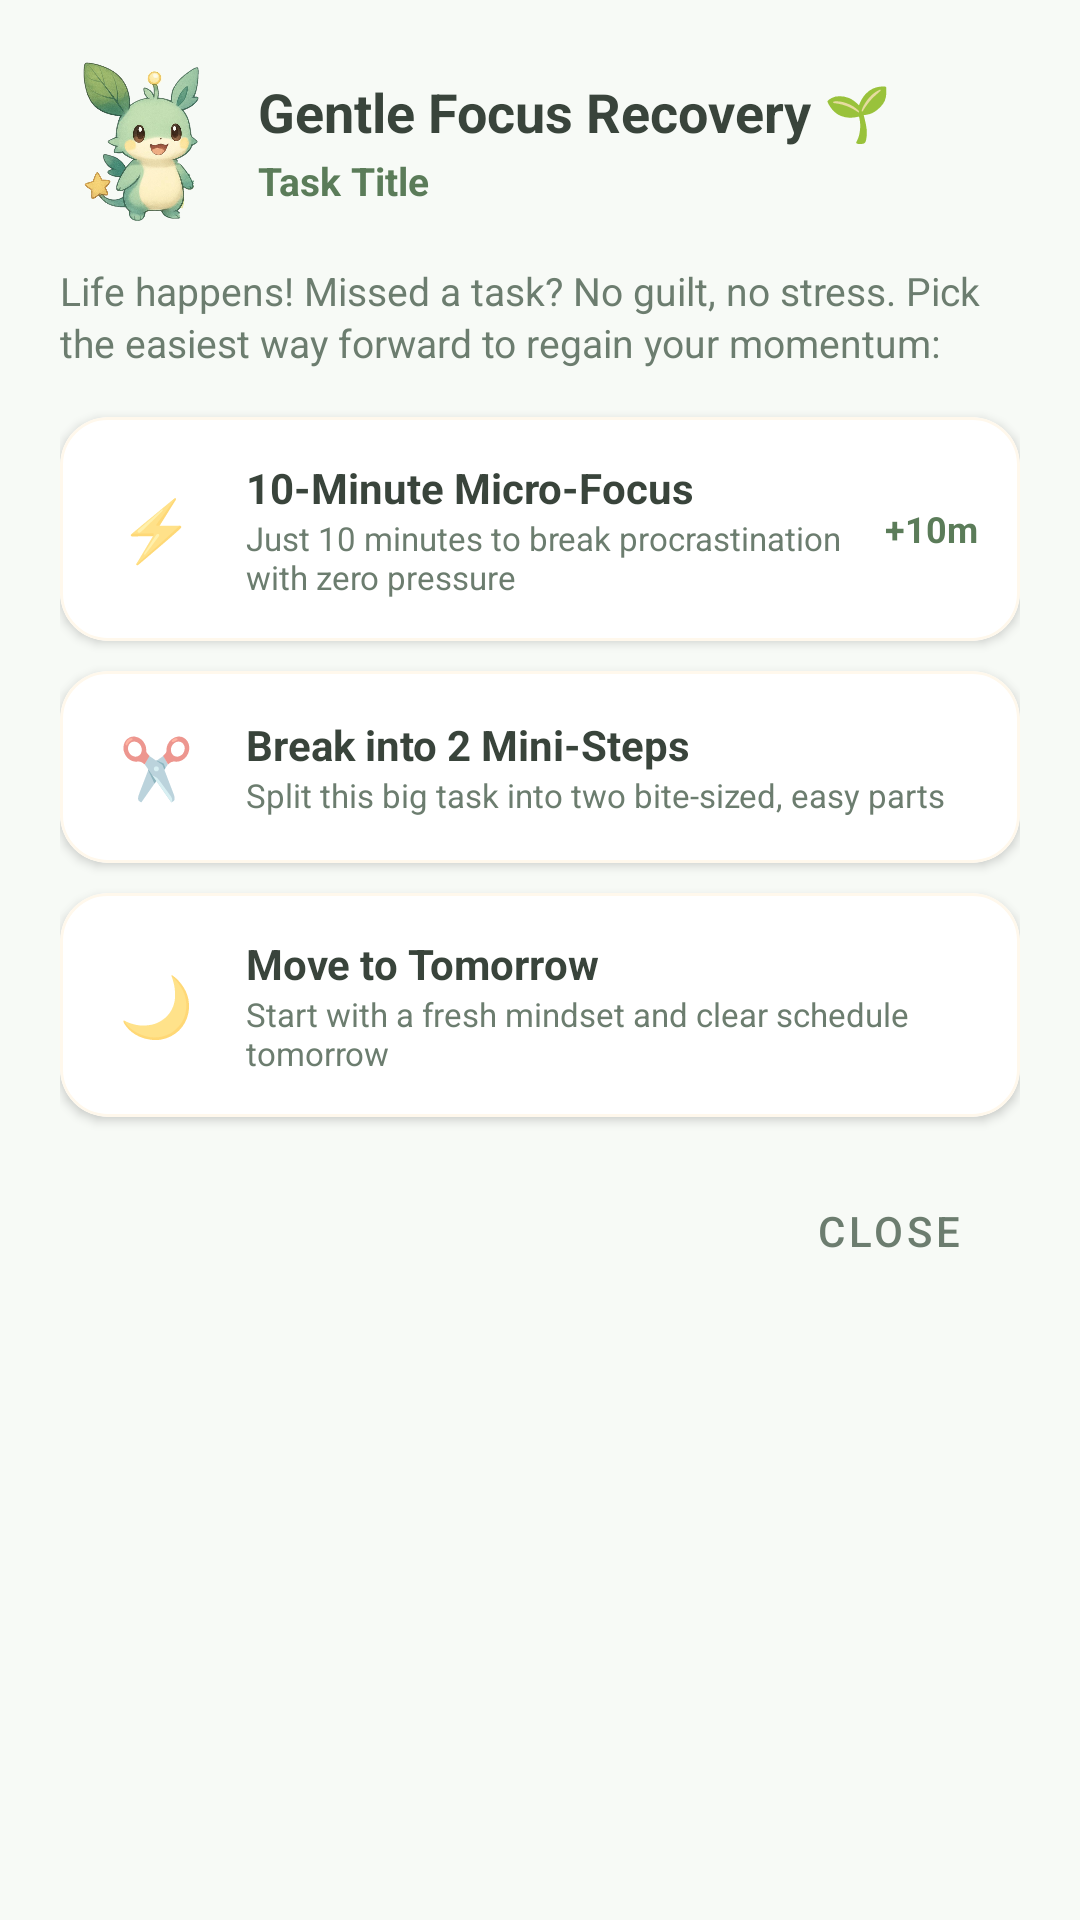

Icons on this 1080 x 1920 Android screen, each with the point to tap as (x=x, y=y):
Minty mascot: (x=141, y=141)
